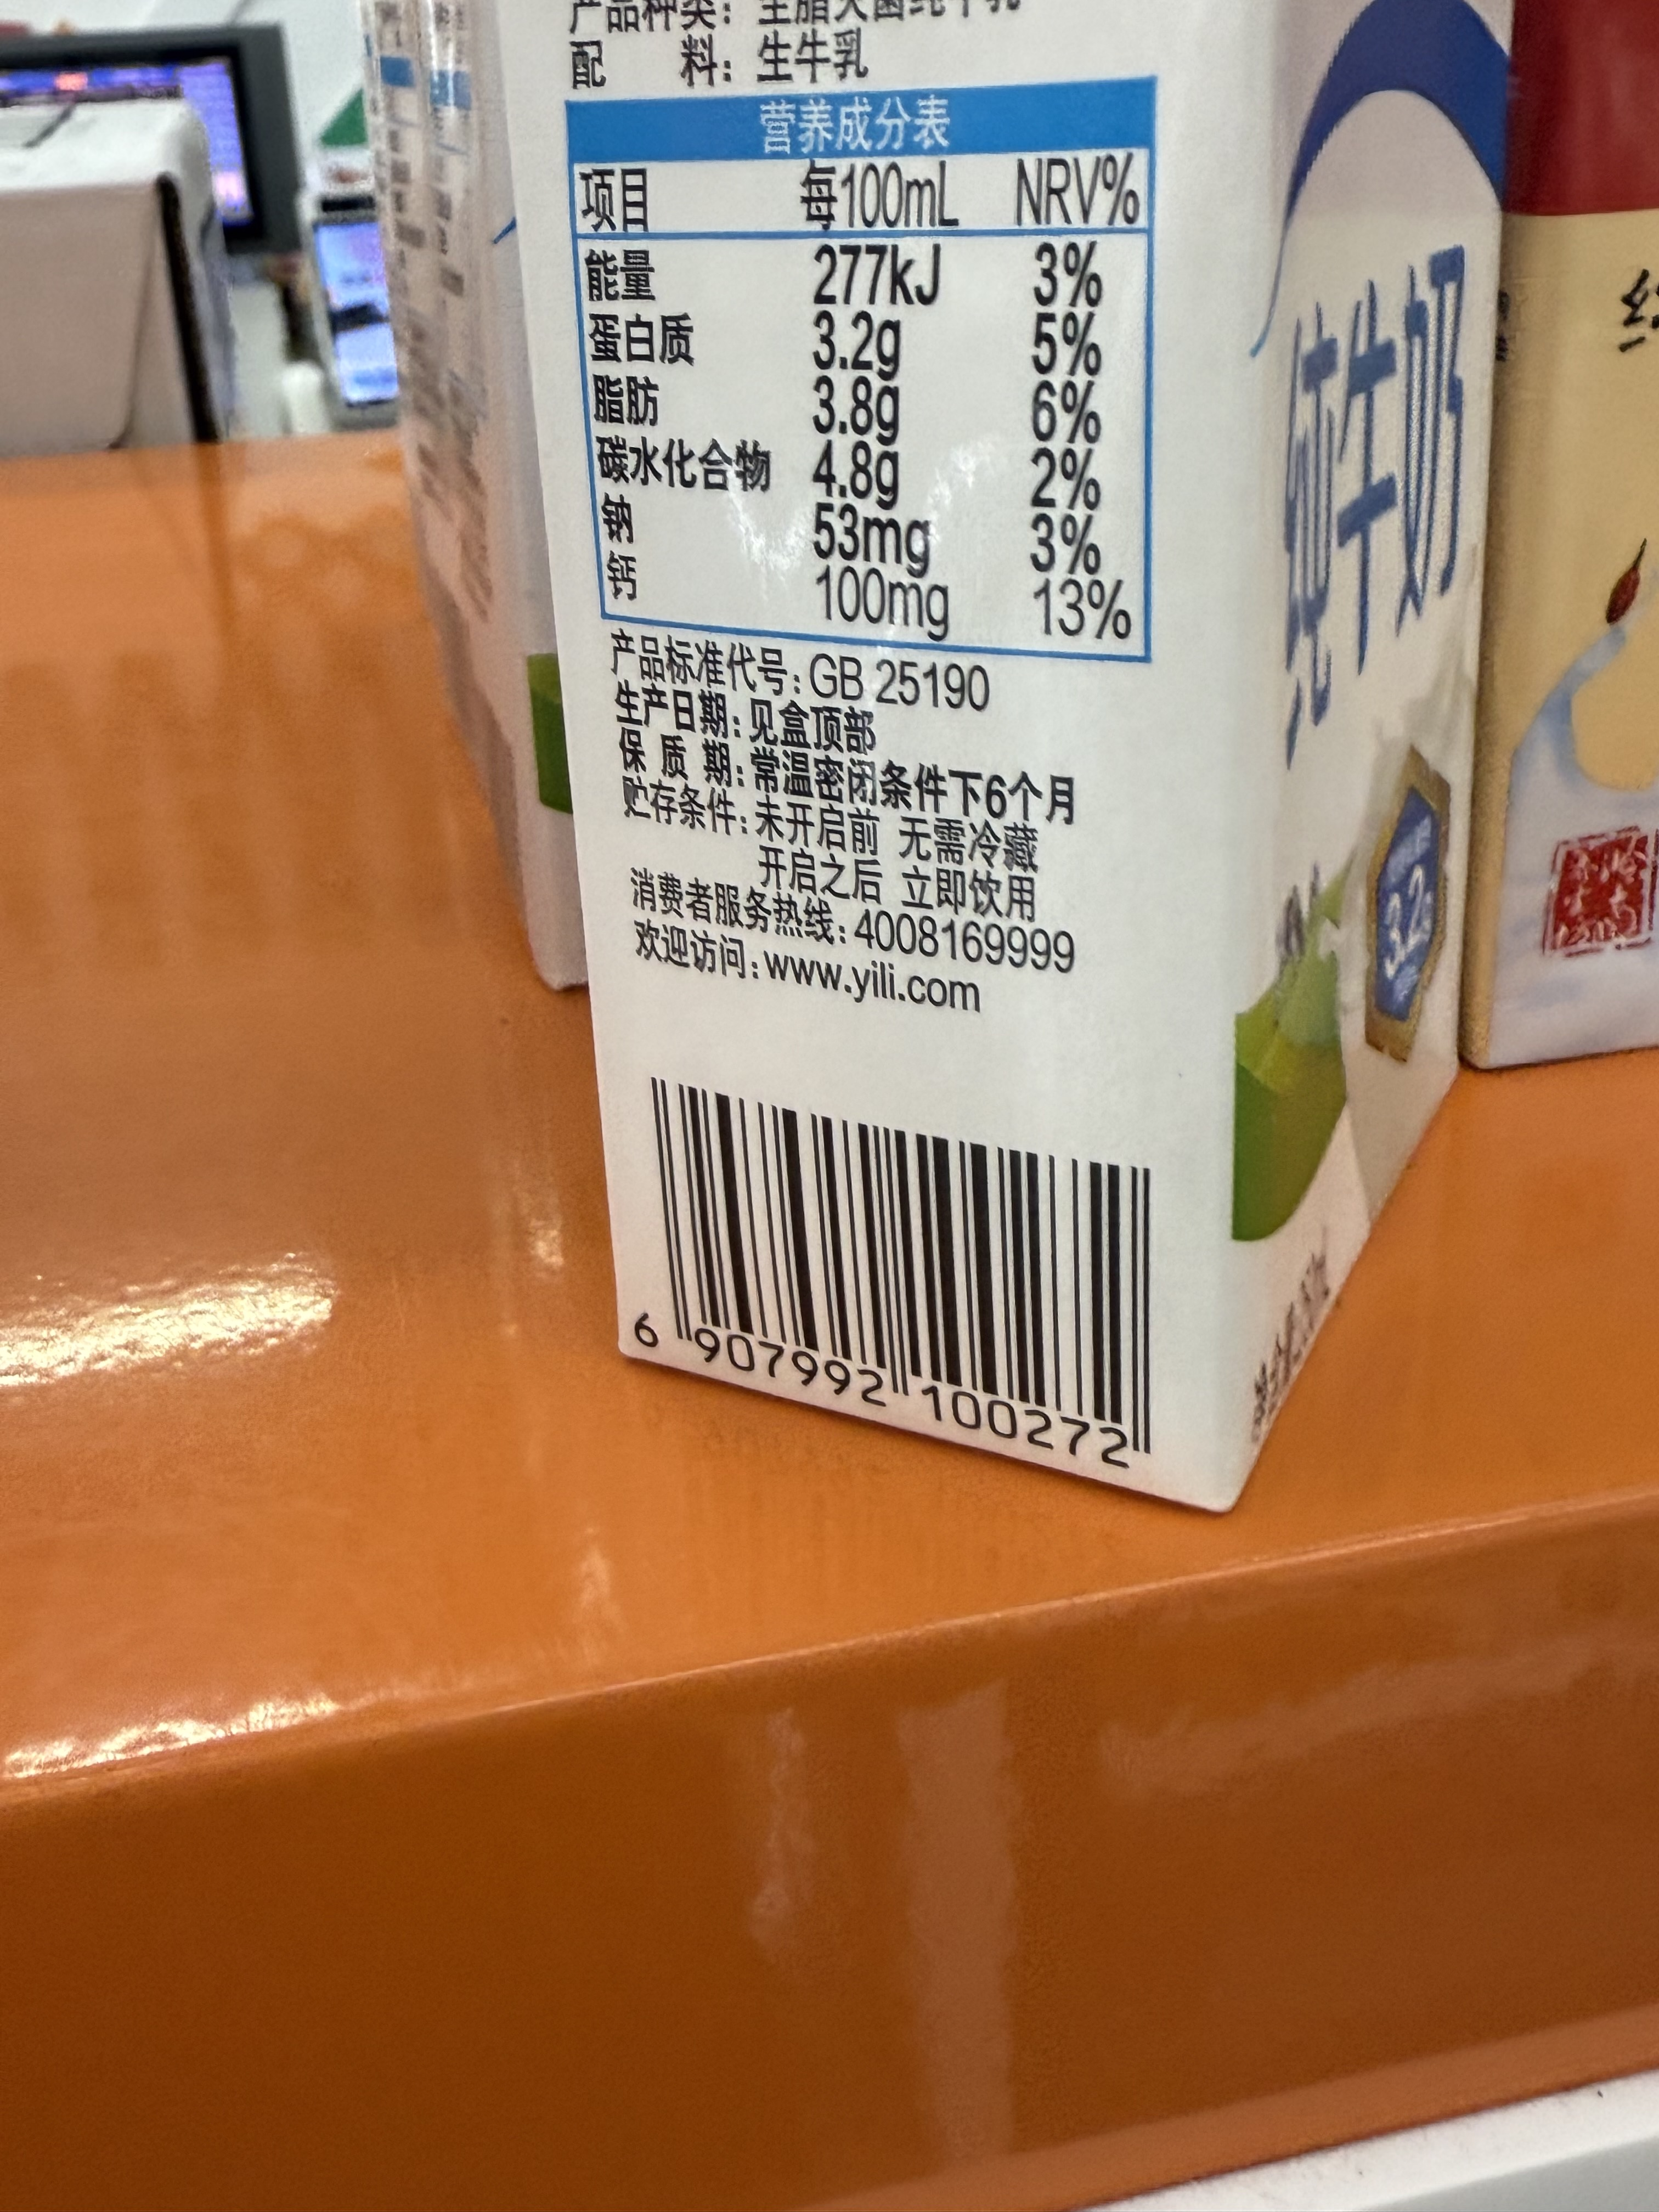bar: (643, 1068, 1171, 1461)
